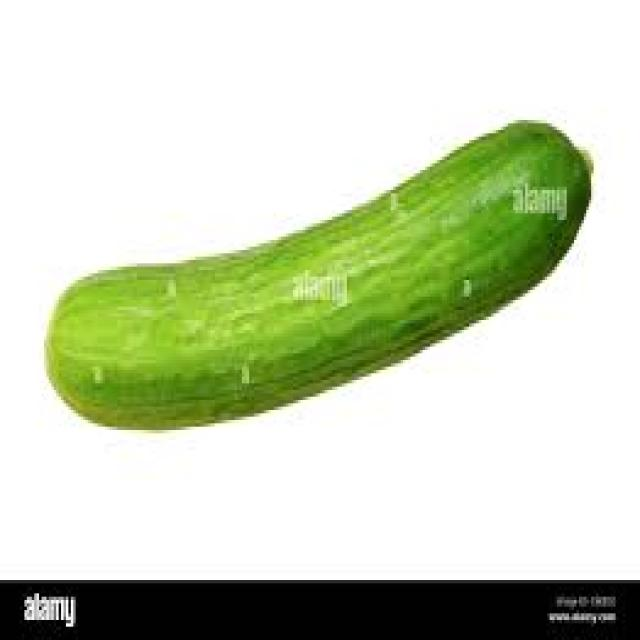cucumber: (41, 117, 594, 430)
